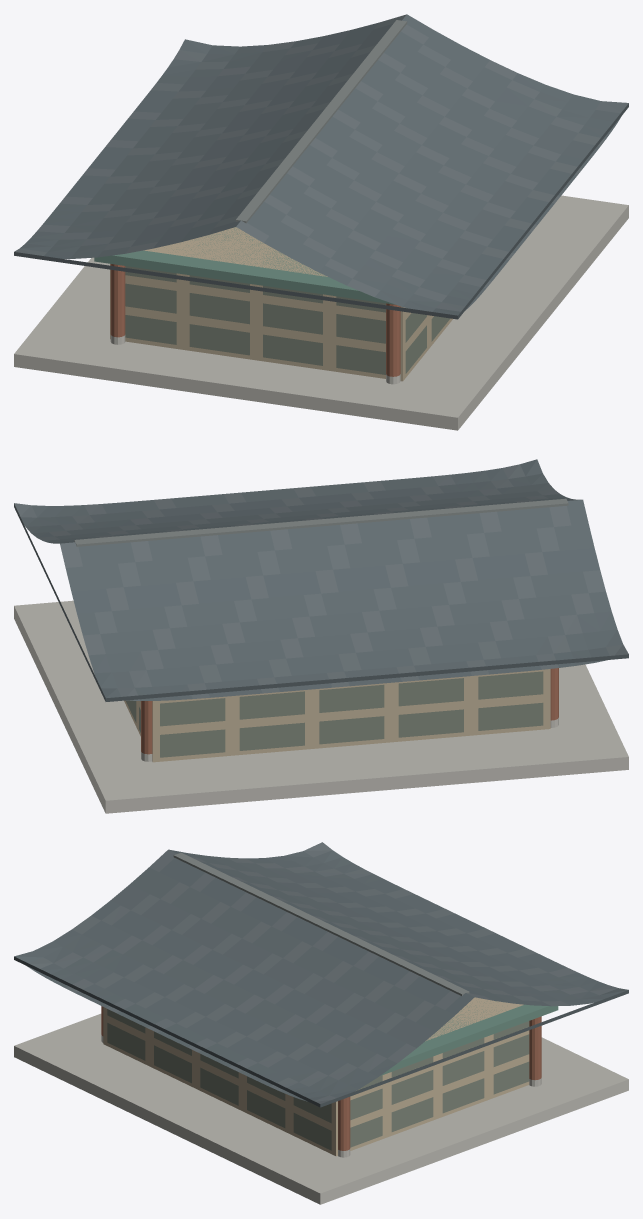
Rendered from civic-99d6599b-b5ca-425e-bfb2-b3252ef06801.glb.
The picture shows the model from 3 angles, top to bottom: view 1: azimuth 30°, elevation 25°; view 2: azimuth 150°, elevation 25°; view 3: azimuth 270°, elevation 25°; orthographic projection. The views are drawn at different scales.
Parts seen in each view (by area): view 1: civic-99d6599b-b5ca-425e-bfb2-b3252ef06801; view 2: civic-99d6599b-b5ca-425e-bfb2-b3252ef06801; view 3: civic-99d6599b-b5ca-425e-bfb2-b3252ef06801.
Boxes of the visible parts, x1,y1,x2,y2 form: civic-99d6599b-b5ca-425e-bfb2-b3252ef06801: (14,14,628,430); civic-99d6599b-b5ca-425e-bfb2-b3252ef06801: (14,459,628,813); civic-99d6599b-b5ca-425e-bfb2-b3252ef06801: (14,842,628,1204).
Size of the model in its own units: 22.8 by 6.1 by 22.61.
